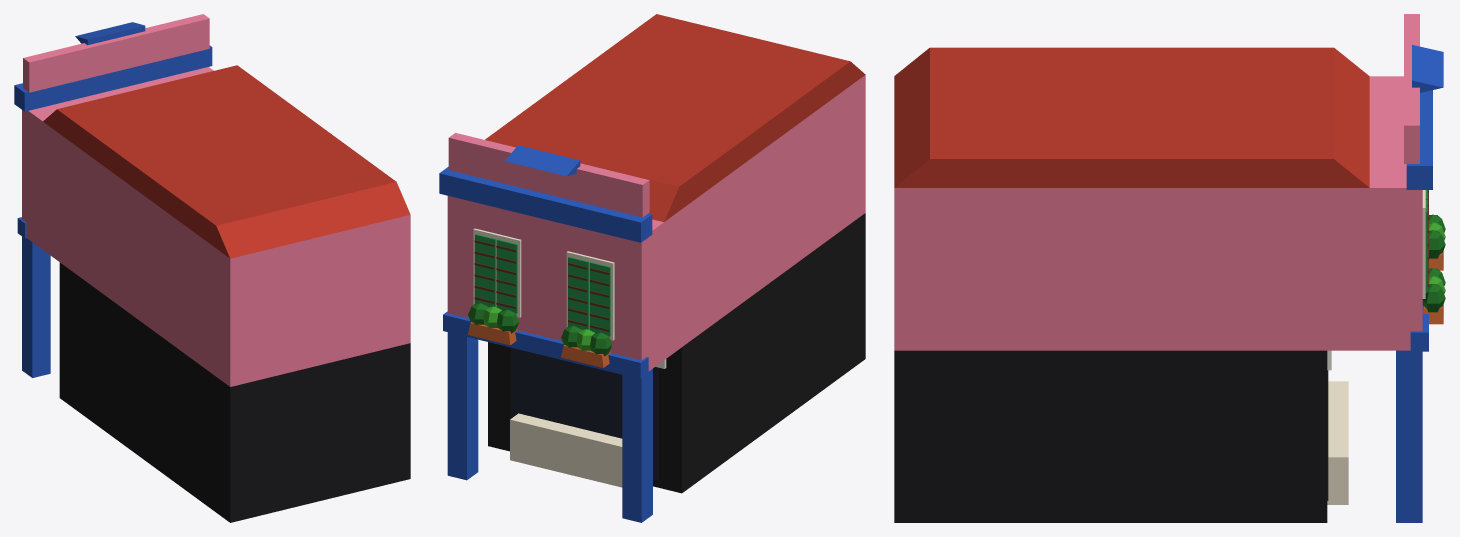
The model's file is env_chowkit_shop_c.fbx.
3 views of the same model, side by side, from view 1: azimuth 30°, elevation 25°; view 2: azimuth 150°, elevation 25°; view 3: azimuth 270°, elevation 25° (orthographic). The views are drawn at different scales.
Parts seen in each view (by area): view 1: env_chowkit_shop_c_geo_LOD0, COL_env_chowkit_shop_c; view 2: env_chowkit_shop_c_geo_LOD0, COL_env_chowkit_shop_c; view 3: env_chowkit_shop_c_geo_LOD0, COL_env_chowkit_shop_c.
Part boxes in pixels (box(x1,y1,x2,y2)): env_chowkit_shop_c_geo_LOD0: box(14, 14, 410, 386); COL_env_chowkit_shop_c: box(59, 262, 410, 522); env_chowkit_shop_c_geo_LOD0: box(439, 14, 865, 522); COL_env_chowkit_shop_c: box(488, 213, 865, 493); env_chowkit_shop_c_geo_LOD0: box(894, 14, 1445, 522); COL_env_chowkit_shop_c: box(894, 350, 1327, 522).
Size of what is drawn, in the model's own units: 5.2 by 8.45 by 10.44.
